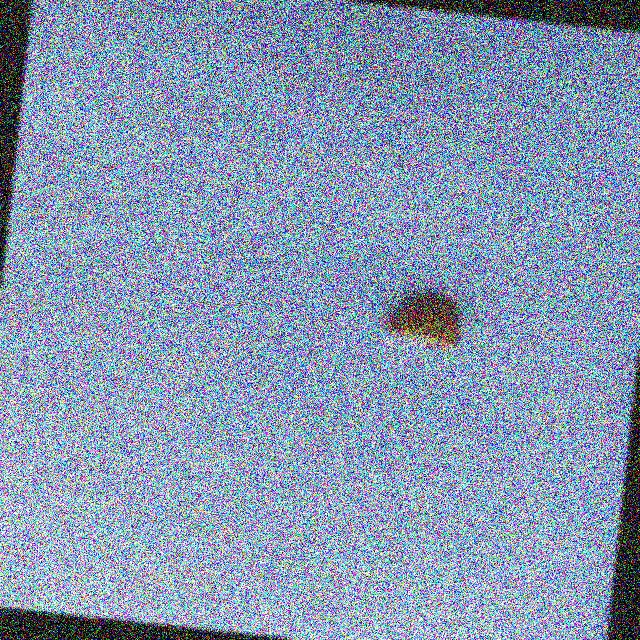grade4: (374, 285, 472, 356)
